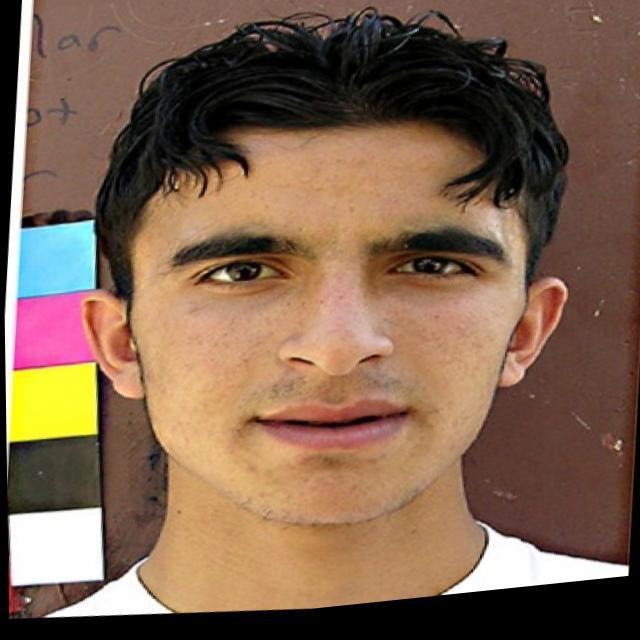Nonhelmet: (78, 5, 576, 531)
